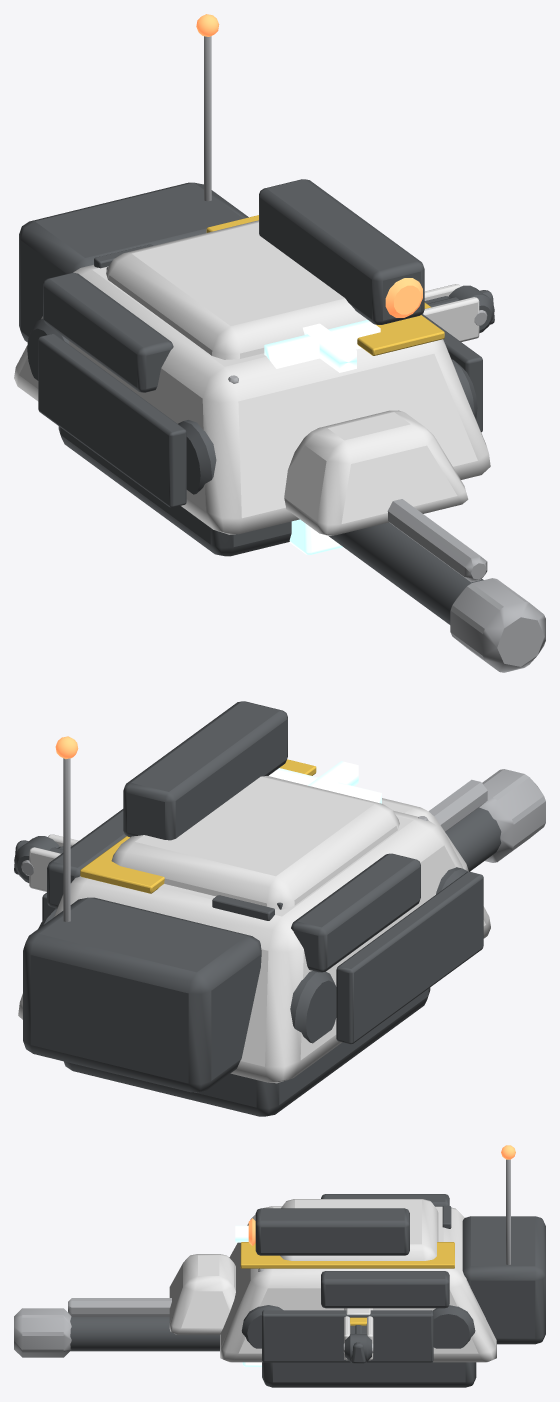
File: rifle.glb
The picture shows the model from 3 angles, top to bottom: view 1: azimuth 30°, elevation 25°; view 2: azimuth 150°, elevation 25°; view 3: azimuth 270°, elevation 25°; orthographic projection. The views are drawn at different scales.
Parts seen in each view (by area): view 1: Hull, Turret, Barrel, LegUpper; view 2: Hull, Turret, Barrel, LegUpper; view 3: Hull, Turret, Barrel, LegUpper, LegLower.
Part boxes in pixels (x1,y1,x2,y2): Hull: (14,14,490,556); Turret: (106,179,424,368); Barrel: (289,499,545,672); LegUpper: (423,284,494,341); Hull: (18,736,490,1116); Turret: (111,701,399,909); Barrel: (428,769,545,871); LegUpper: (14,834,78,891); Hull: (169,1145,545,1387); Turret: (248,1199,438,1260); Barrel: (14,1298,261,1366); LegUpper: (343,1308,373,1362); LegLower: (350,1317,366,1363).
Size of the model in its own units: 0.547 by 0.484 by 0.9933.
